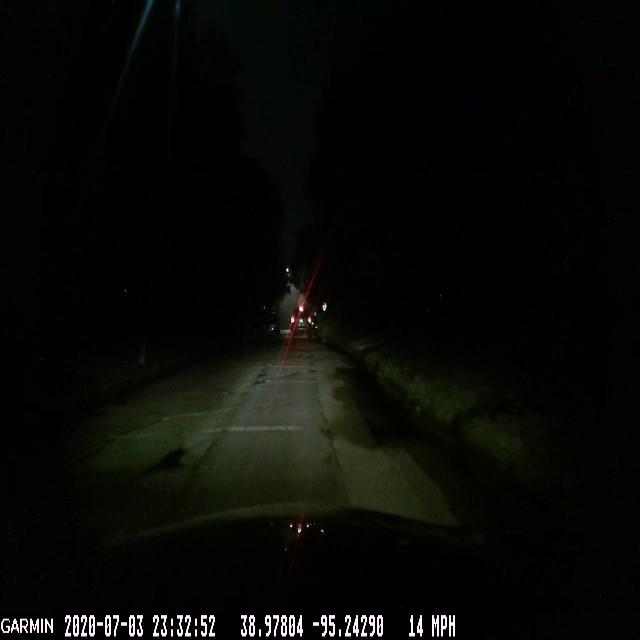Pothole: (133, 436, 201, 489)
